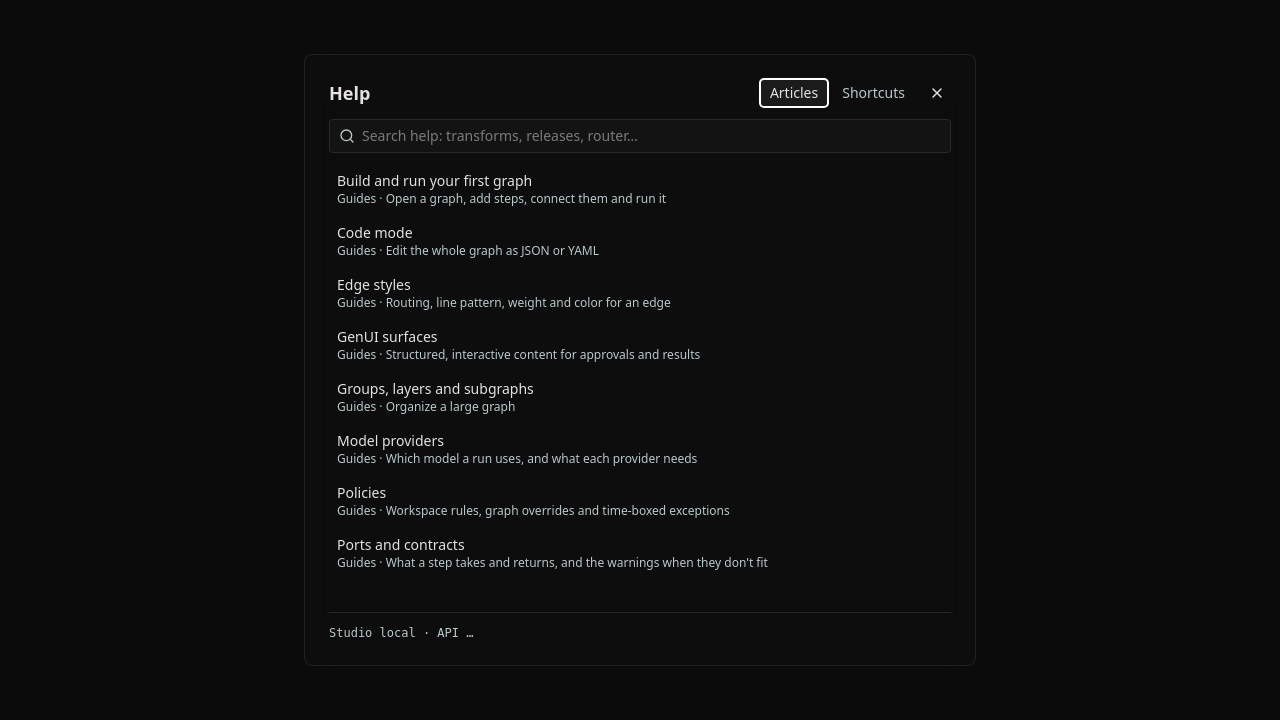
Test: Help panel › says when nothing matches
Type "zzz-nothing" into the search field labelled "Search help" at (640, 136), box [329,119,951,153]
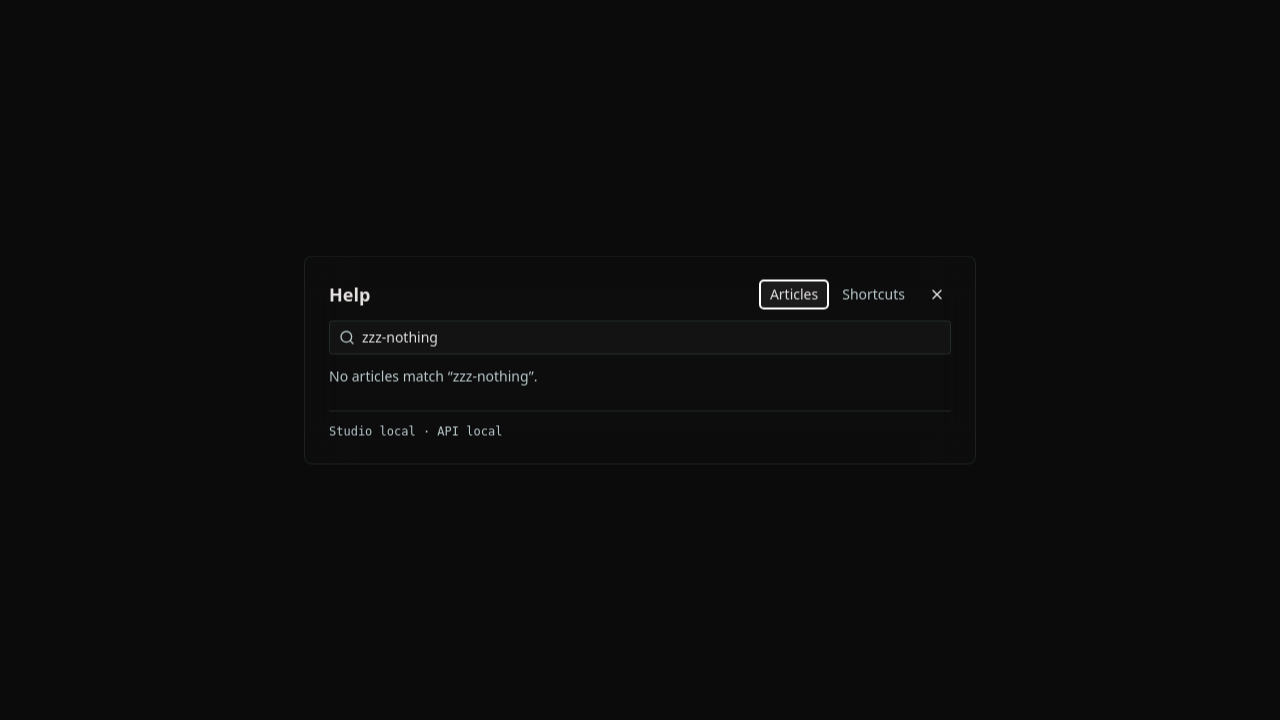
Check: the message shows "No articles match", box [329,366,453,386]
